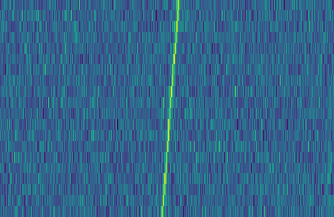signal: (158, 0, 183, 217)
